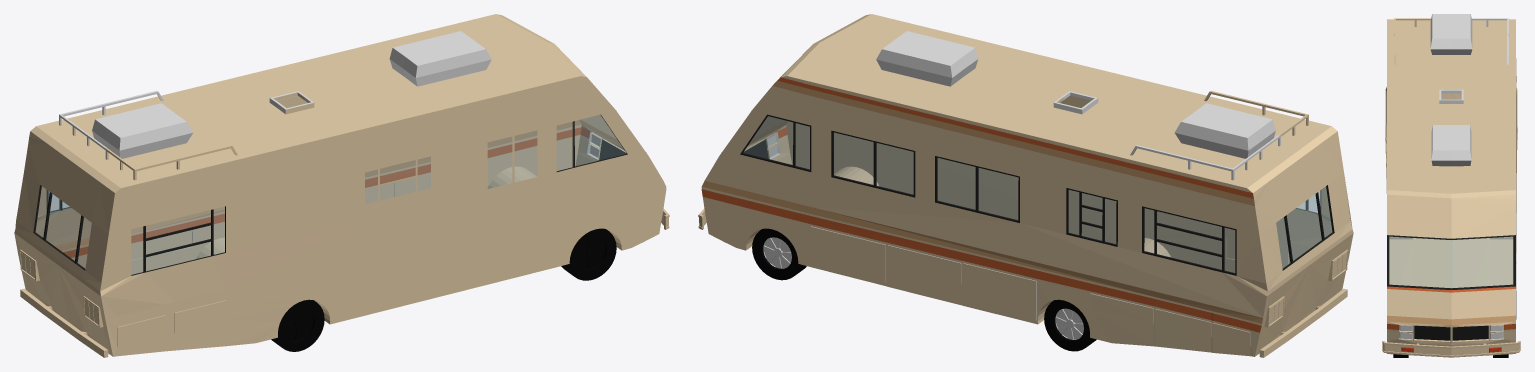
The model's file is minrvleft.dae.
3 views of the same model, side by side, from view 1: azimuth 30°, elevation 25°; view 2: azimuth 150°, elevation 25°; view 3: azimuth 270°, elevation 25° (orthographic). The views are drawn at different scales.
Visible parts, largest first — view 1: RV; view 2: RV; view 3: RV.
Boxes of the visible parts, x1,y1,x2,y2 form: RV: (14,14,669,357); RV: (698,14,1353,357); RV: (1382,14,1520,357).
Size of the model in its own units: 12.36 by 3.36 by 4.74.
